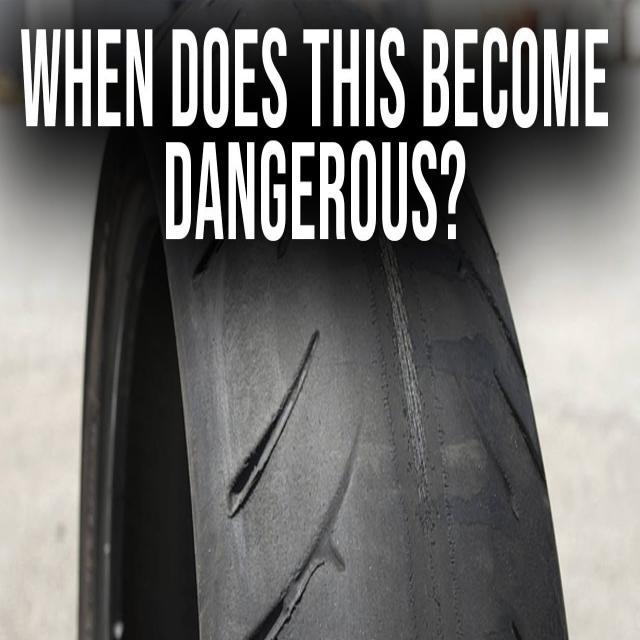Flat spots: (214, 263, 494, 639)
